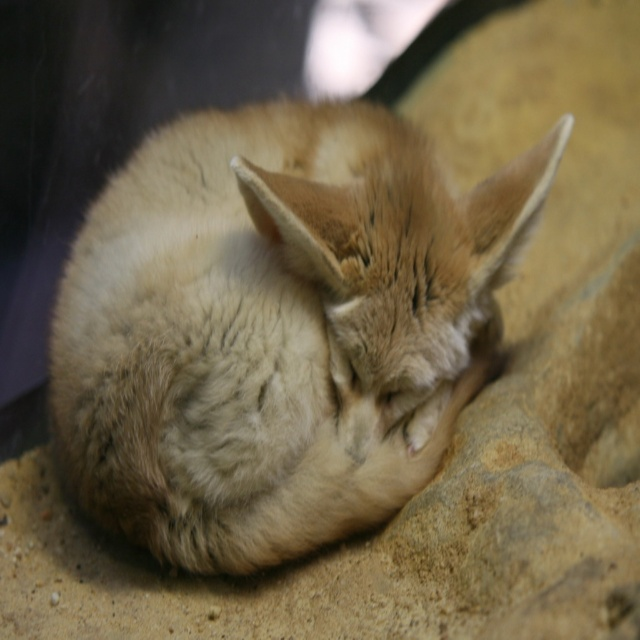Fox: (42, 88, 578, 586)
